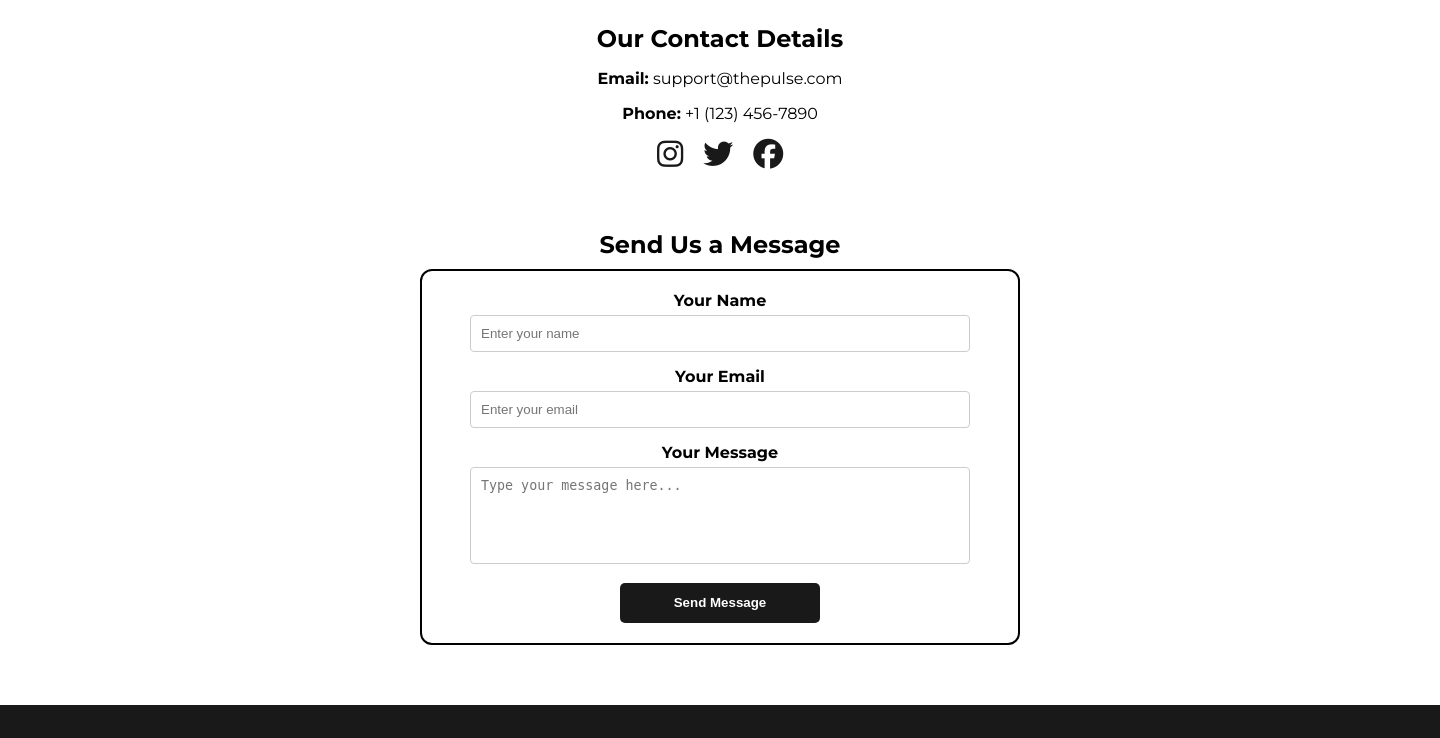
ContactUsPage Component › validates form submission and shows success message
(page scrolled)
In the field with placeholder "Enter your name": {"x": 720, "y": 333} [470, 315, 970, 352], type "John Doe"
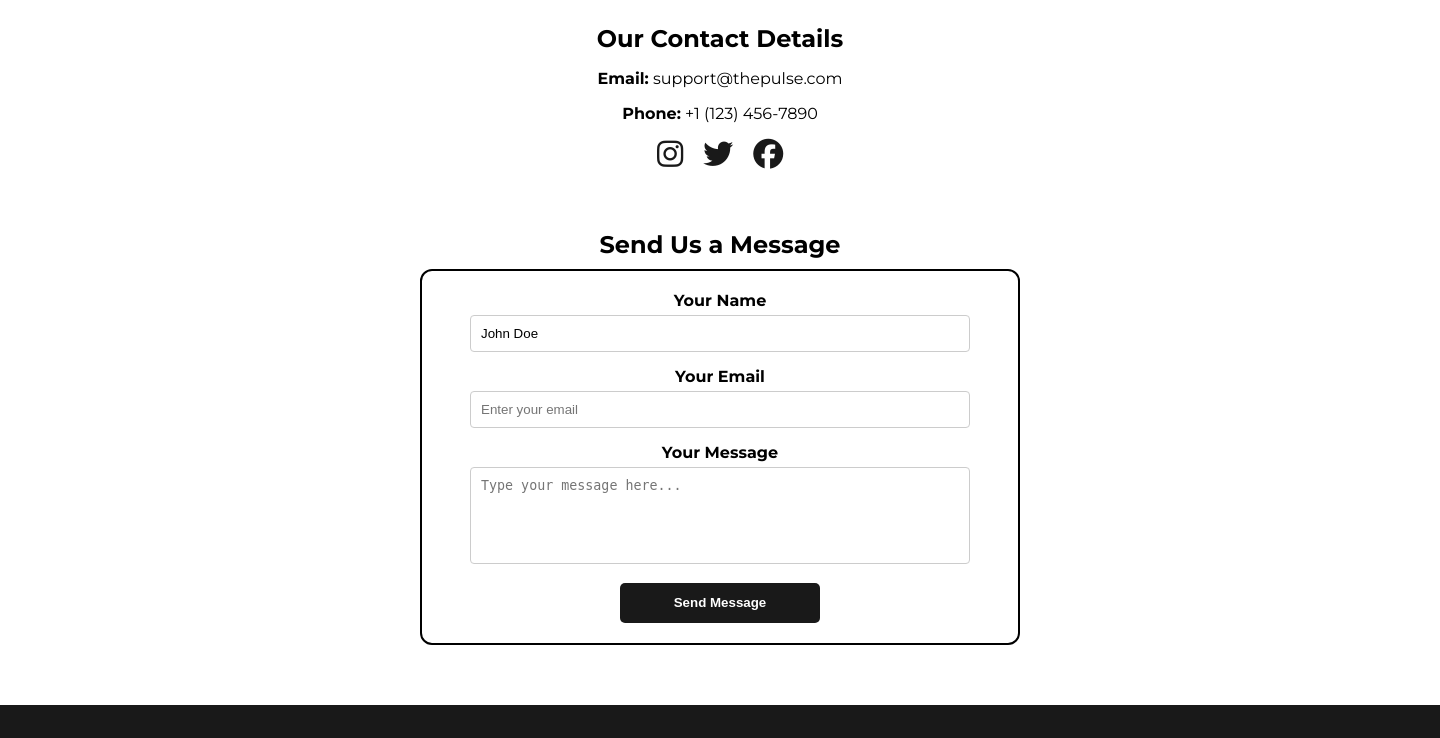
In the field with placeholder "Enter your email": {"x": 720, "y": 409} [470, 391, 970, 428], type "john.doe@example.com"
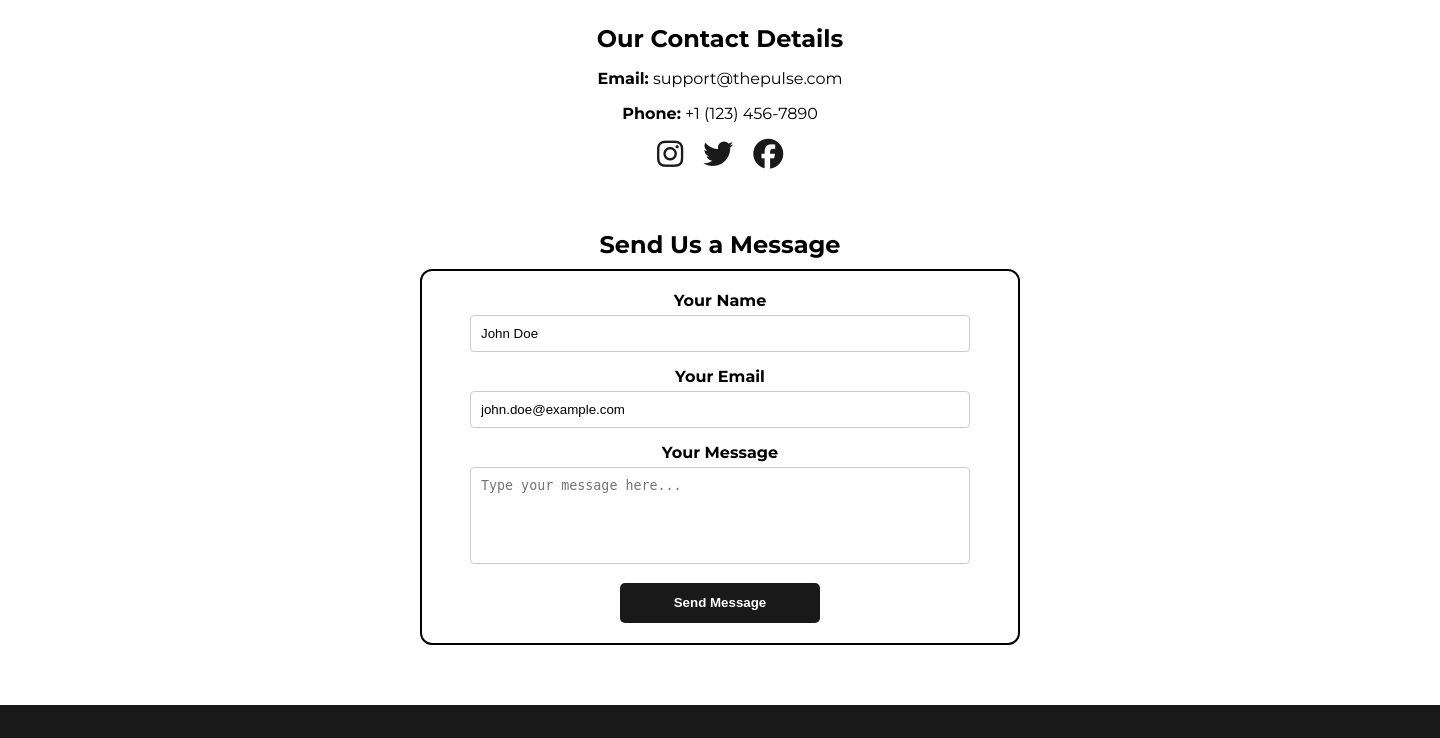
In the text box with placeholder "Type your message here...": {"x": 720, "y": 515} [470, 467, 970, 564], type "Hello, this is a test message."
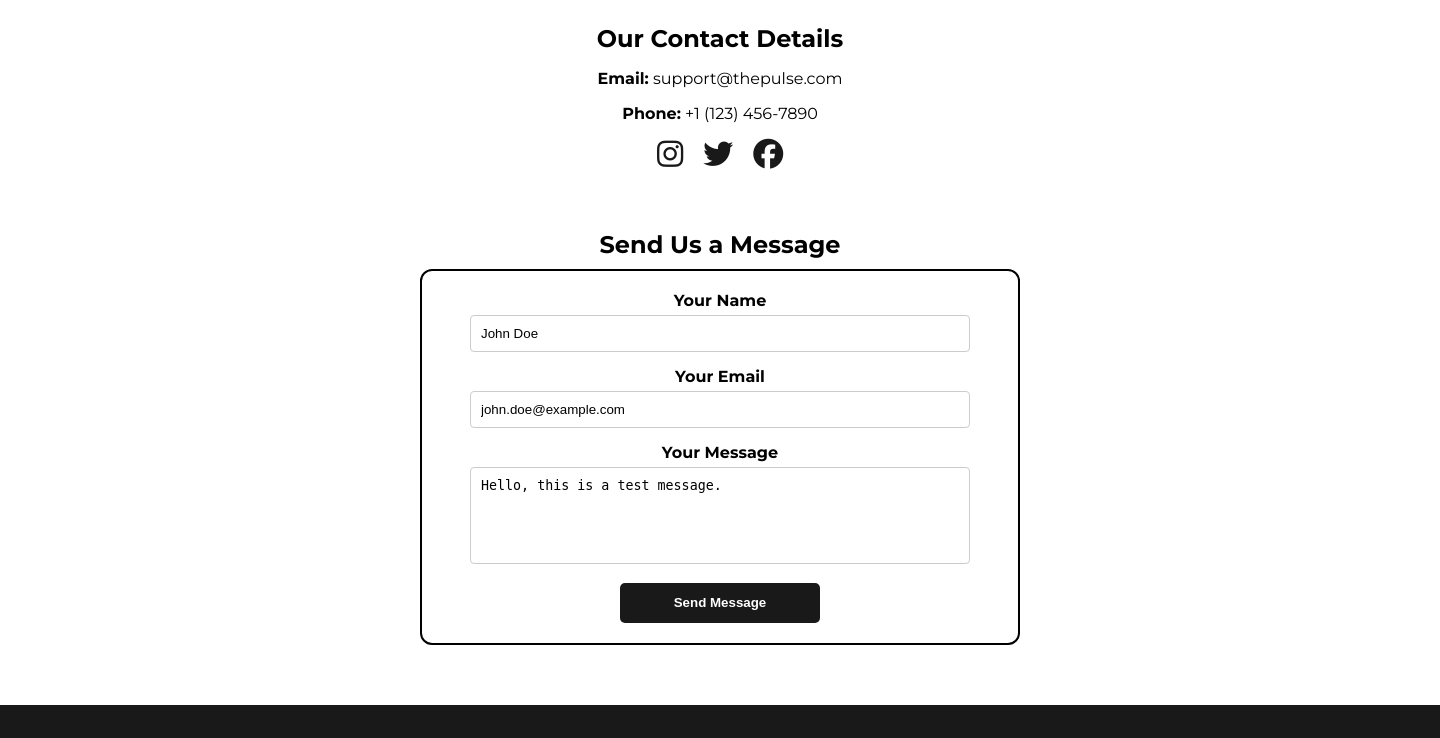
Click the button "Send Message": {"x": 720, "y": 603} [620, 583, 820, 623]
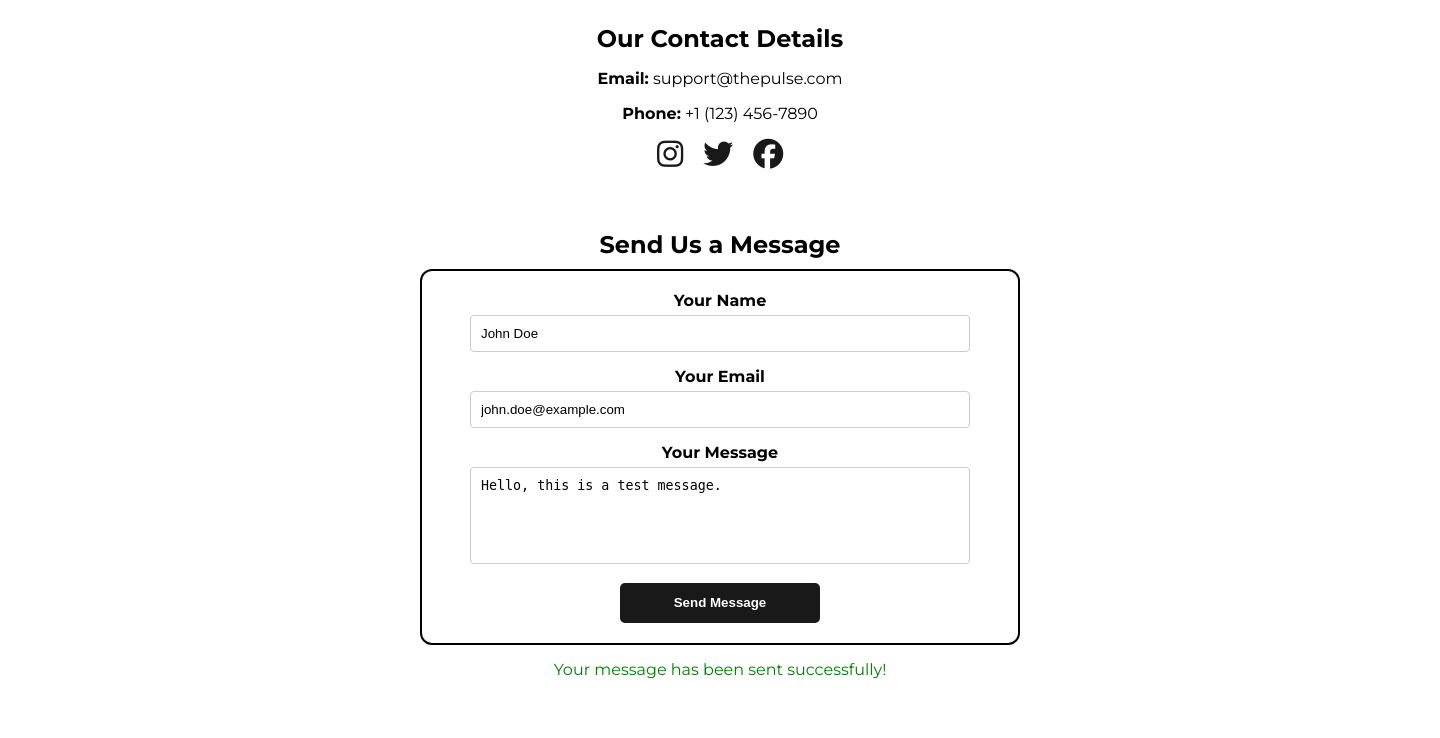
expect the text "Your message has been sent successfully!" is shown: met, box [554, 660, 886, 679]
